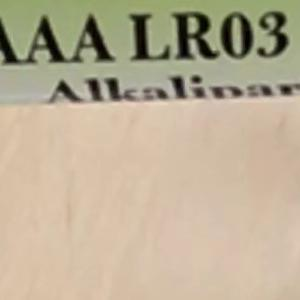keyword: (39, 68, 135, 113)
